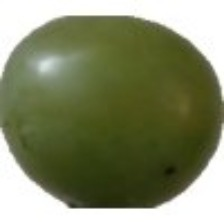grapes: (21, 19, 169, 206)
